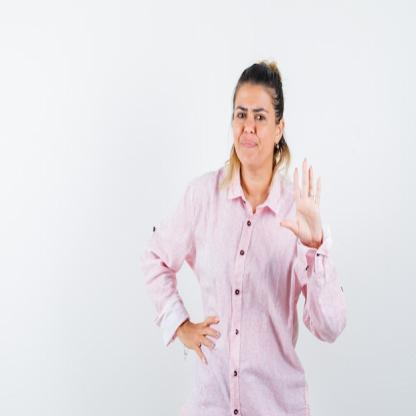stop: (278, 154, 324, 248)
